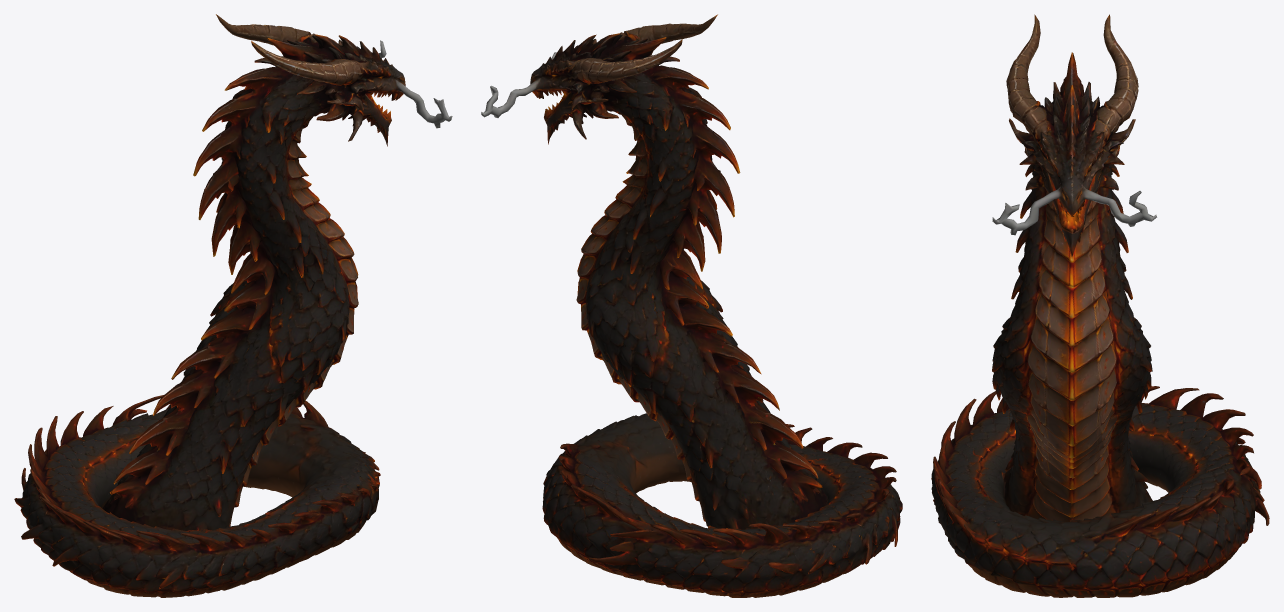
File: Azhdar-tripo.glb
The picture shows the model from 3 angles, left to right: view 1: azimuth 30°, elevation 25°; view 2: azimuth 150°, elevation 25°; view 3: azimuth 270°, elevation 25°; orthographic projection. The views are drawn at different scales.
Parts seen in each view (by area): view 1: tripo_node_85cd007a-1876-48c4-b0ae-fbbc98599ca9; view 2: tripo_node_85cd007a-1876-48c4-b0ae-fbbc98599ca9; view 3: tripo_node_85cd007a-1876-48c4-b0ae-fbbc98599ca9.
Boxes of the visible parts, x1,y1,x2,y2 form: tripo_node_85cd007a-1876-48c4-b0ae-fbbc98599ca9: (14, 14, 452, 597); tripo_node_85cd007a-1876-48c4-b0ae-fbbc98599ca9: (481, 14, 902, 597); tripo_node_85cd007a-1876-48c4-b0ae-fbbc98599ca9: (931, 14, 1269, 597).
Size of the model in its own units: 0.7729 by 1 by 0.5748.
Materials: 1 (1 with a texture image).
